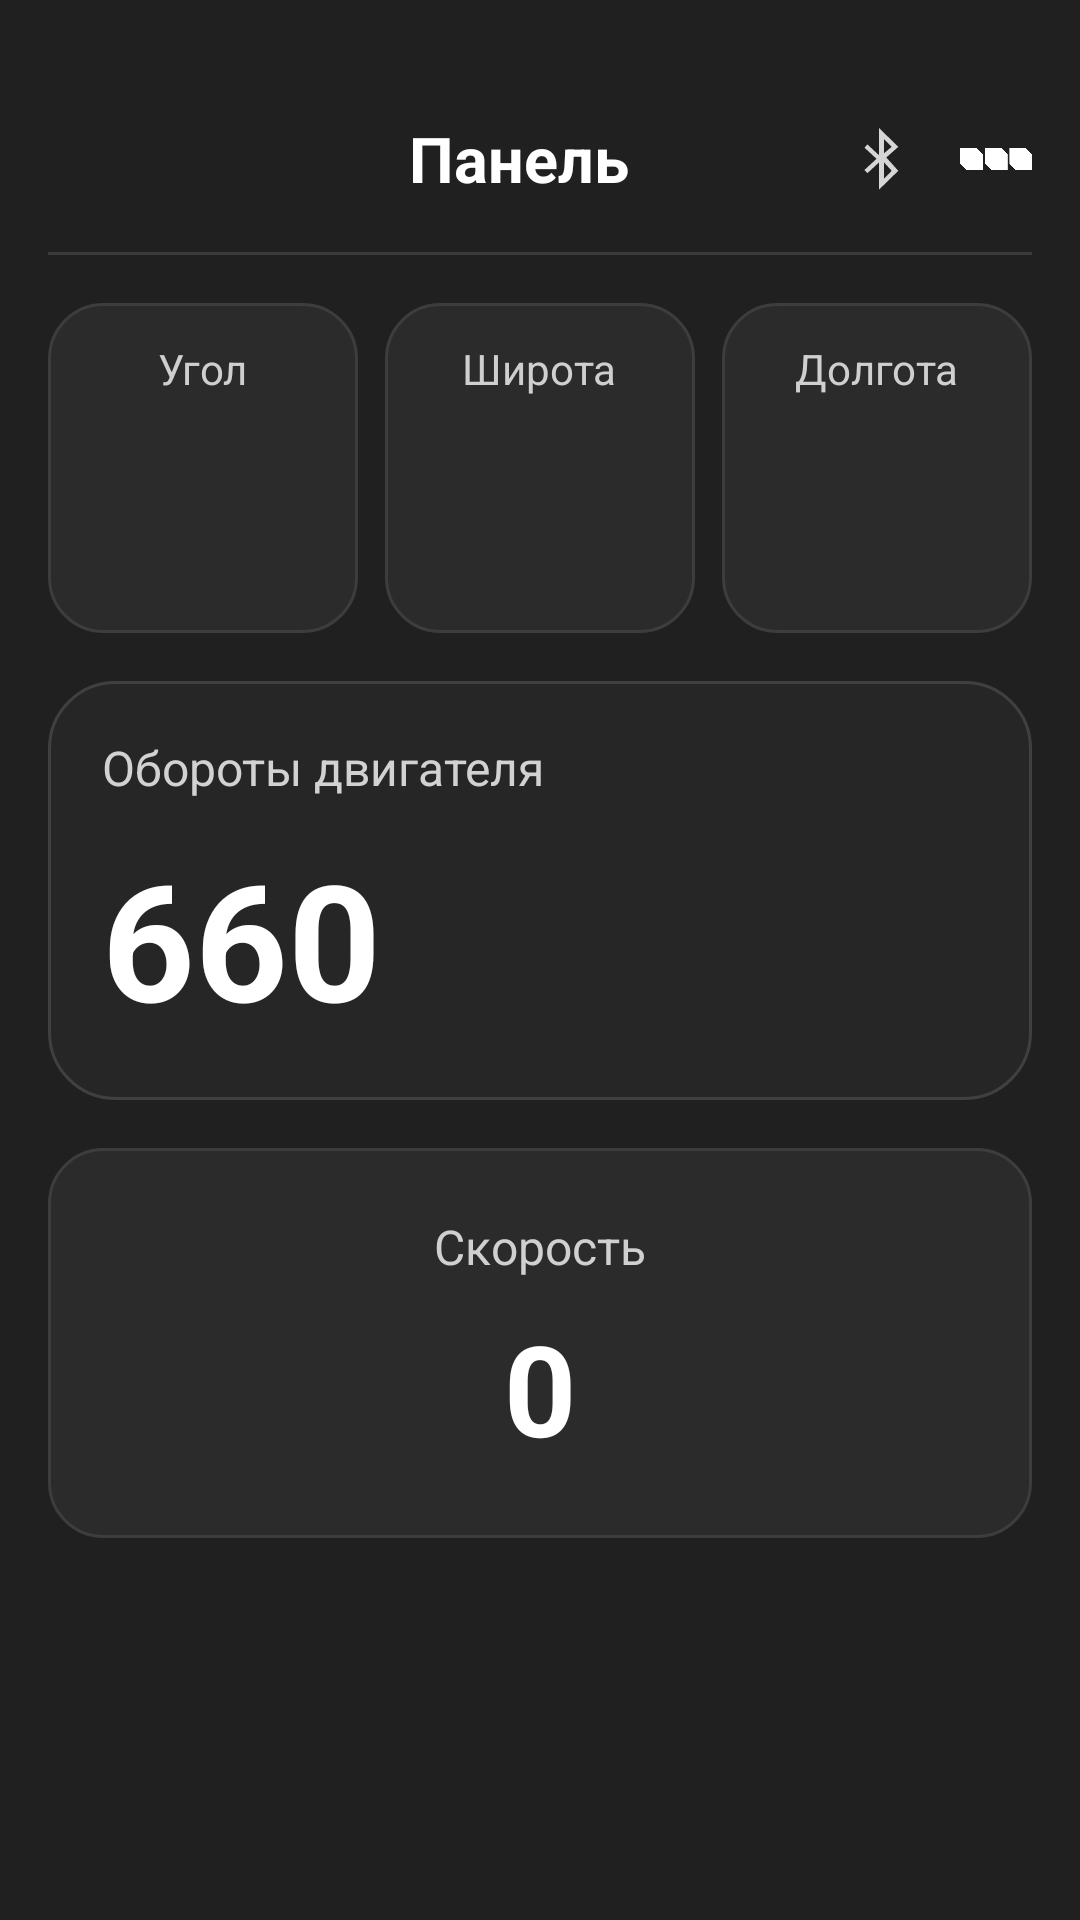

Where icons sit on this 1080*1920 app screen, as {"x1": x1, "y1": y1, "x2": x2, "y2": y2}:
more dots: {"x1": 960, "y1": 148, "x2": 1032, "y2": 170}
